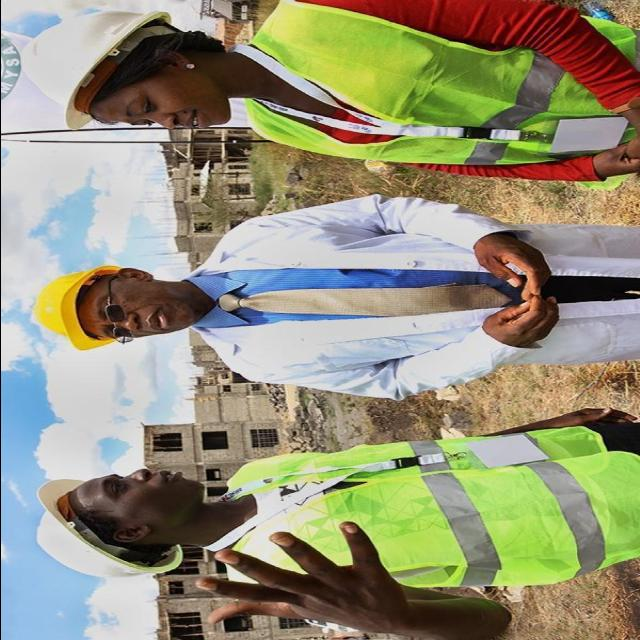helmet: (11, 8, 166, 146), (38, 468, 185, 586), (22, 248, 112, 354)
jacket: (216, 431, 640, 601), (243, 0, 640, 175)
